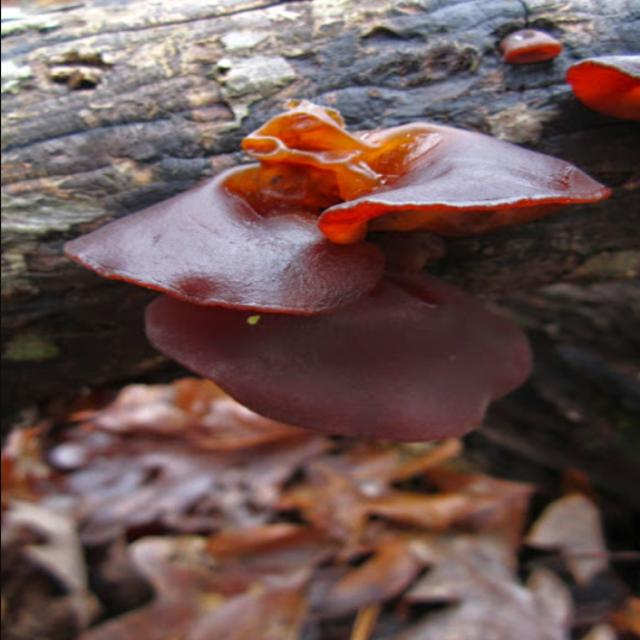Fase Muda: (71, 129, 588, 455)
